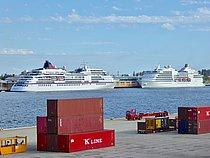Ship: (7, 58, 124, 95), (135, 61, 209, 92)
